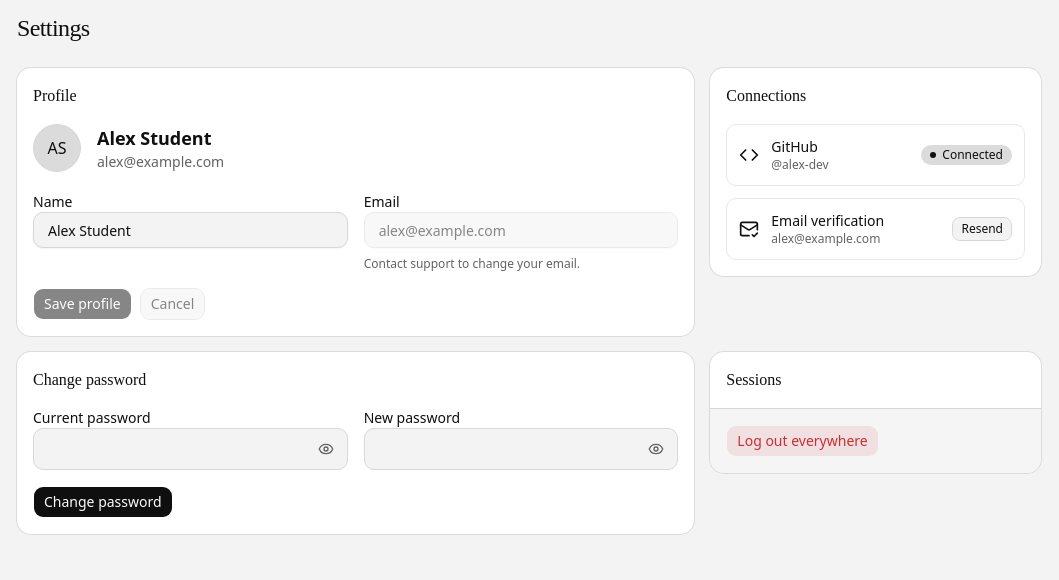
Test case: SettingsPage (FE-099) › focuses current password after the specific 400 response
Type "wrong-pass" into the password field labelled "Current password" at point(190, 449), box top-left (33, 428), bottom-right (348, 470)
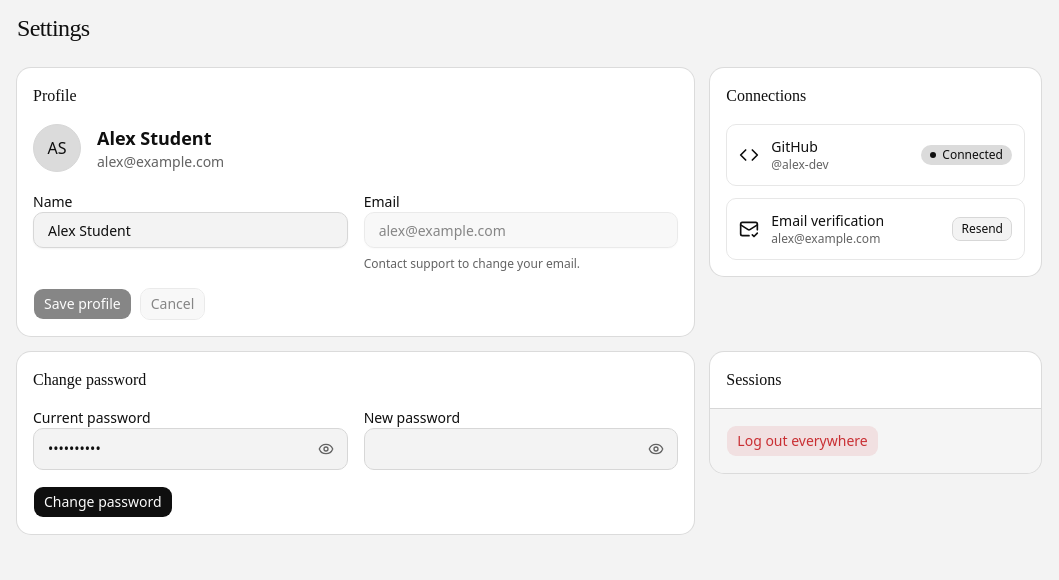
Type "new-pass-123" into the password field labelled "New password" at point(521, 449), box top-left (364, 428), bottom-right (678, 470)
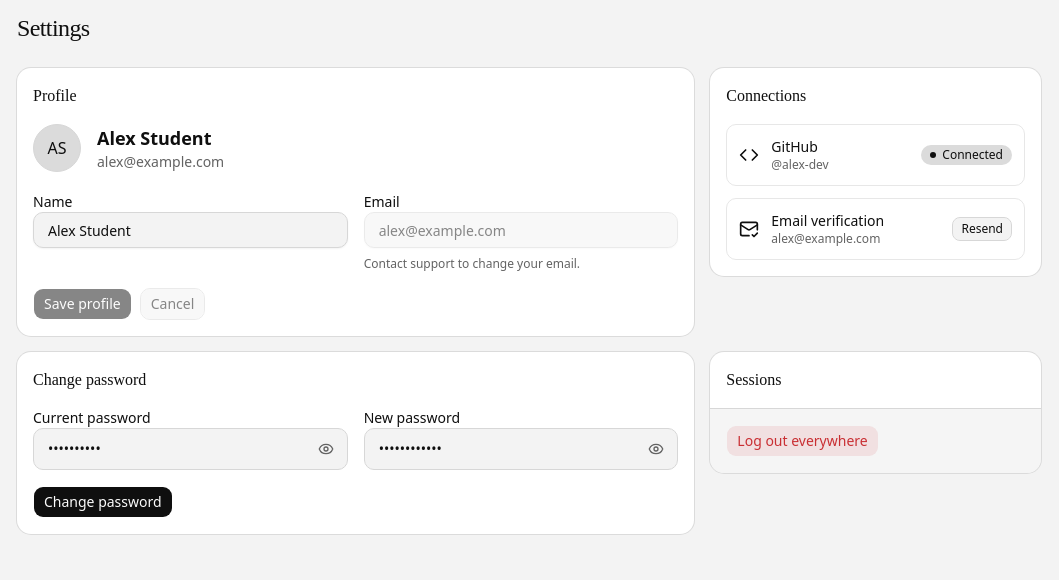
Click the button "Change password" at point(103, 502), box top-left (33, 486), bottom-right (173, 518)
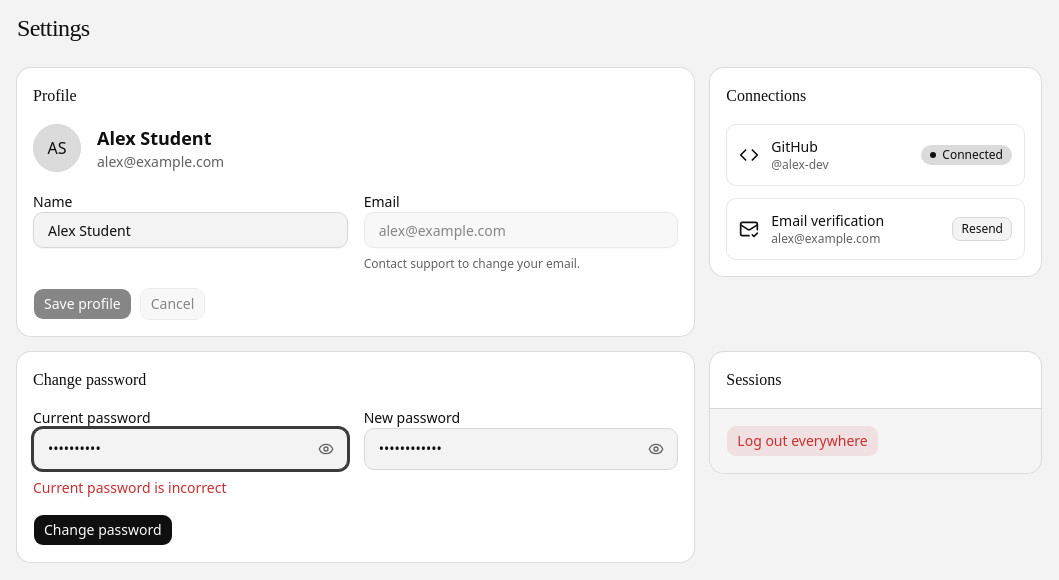
Expected: the text "Current password is incorrect" is shown, top-left (33, 478), bottom-right (226, 497)
